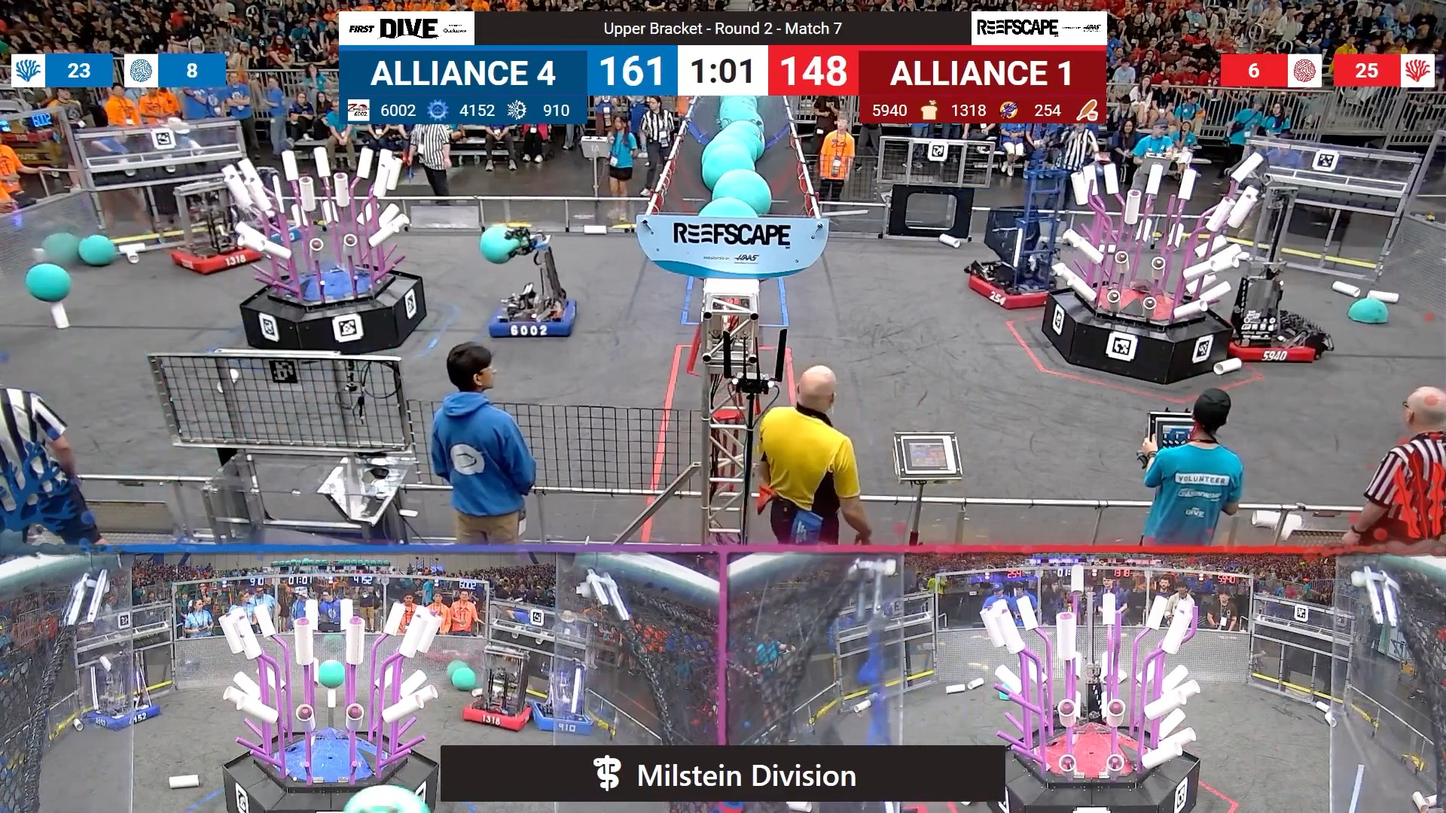bumpers: (1221, 316, 1331, 373), (480, 293, 582, 344), (961, 265, 1069, 313), (166, 242, 272, 281), (75, 700, 164, 737), (456, 697, 540, 735), (524, 703, 592, 738)
